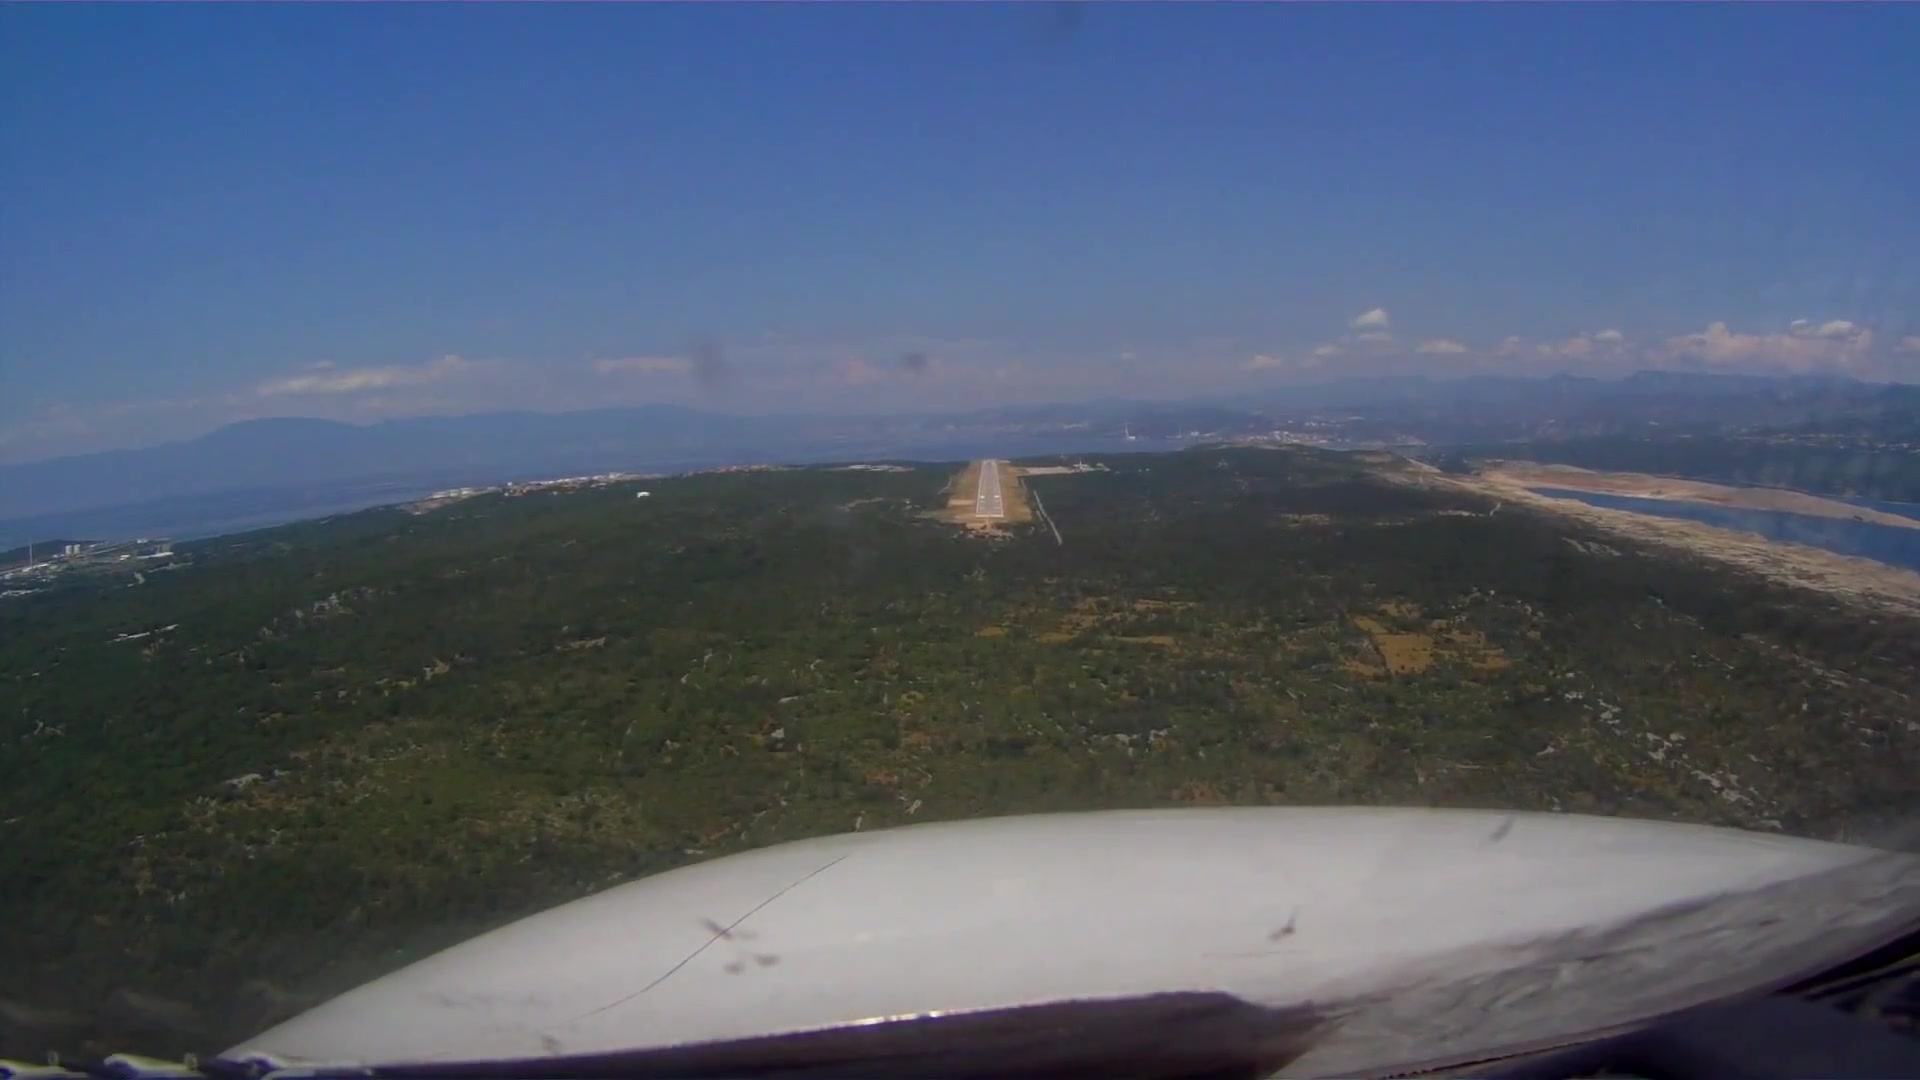runway: (975, 459, 1005, 520)
